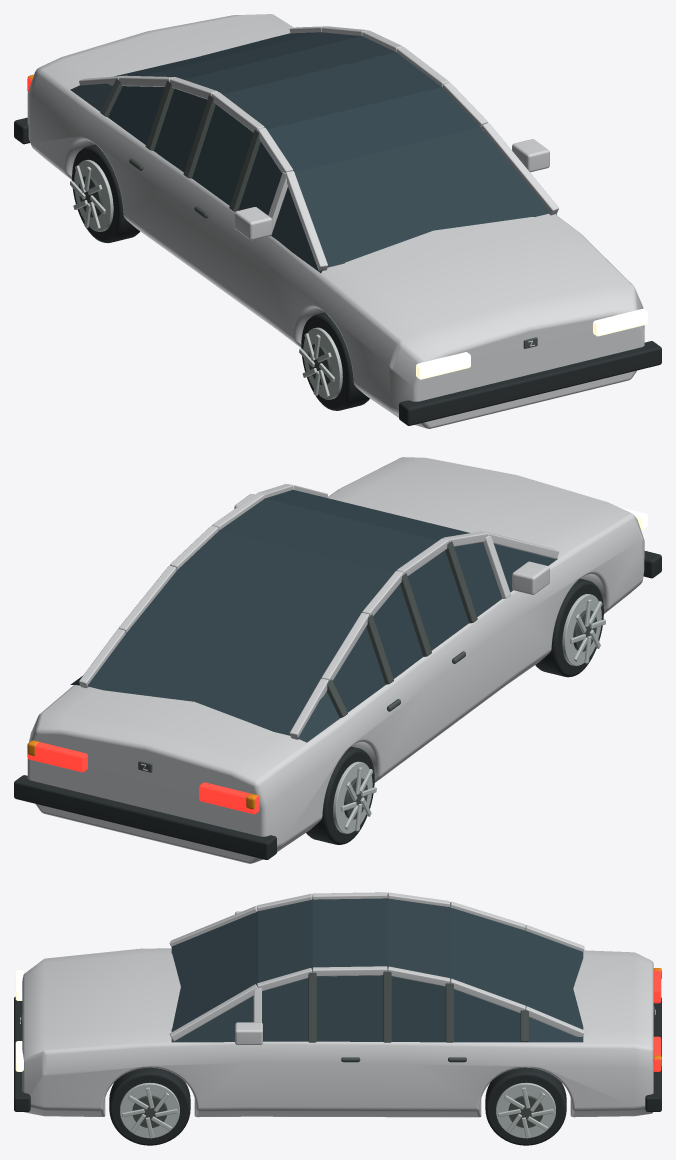
File: electric_sedan.glb
The picture shows the model from 3 angles, top to bottom: view 1: azimuth 30°, elevation 25°; view 2: azimuth 150°, elevation 25°; view 3: azimuth 270°, elevation 25°; orthographic projection. The views are drawn at different scales.
Parts seen in each view (by area): view 1: Painted bodyshell, Cabin, Bumper, Däck, Däck.002, Alloy wheel, Alloy wheel.002, Roof rail, Roof rail.001, Mirror, Headlamp, Headlamp.001 (+5 smaller); view 2: Painted bodyshell, Cabin, Bumper.001, Däck, Däck.002, Alloy wheel, Alloy wheel.002, Ruby tail lens.001, Ruby tail lens, Mirror, Roof rail.008, Window pillar.004 (+9 smaller); view 3: Painted bodyshell, Cabin, Däck.001, Däck.003, Alloy wheel.003, Alloy wheel.001, Roof rail.001, Bumper, Bumper.001, Roof rail.009, Roof rail.005, Window pillar.005 (+13 smaller).
Part boxes in pixels (bbox=[...]): Painted bodyshell: bbox=[27, 14, 644, 428]; Cabin: bbox=[70, 32, 556, 272]; Bumper: bbox=[399, 341, 661, 425]; Däck: bbox=[301, 312, 369, 410]; Däck.002: bbox=[72, 144, 139, 243]; Alloy wheel: bbox=[303, 327, 342, 399]; Alloy wheel.002: bbox=[74, 159, 113, 231]; Roof rail: bbox=[285, 171, 327, 271]; Roof rail.001: bbox=[481, 122, 558, 215]; Mirror: bbox=[234, 207, 272, 240]; Headlamp: bbox=[416, 352, 470, 379]; Headlamp.001: bbox=[593, 309, 647, 336]; Painted bodyshell: bbox=[27, 457, 644, 863]; Cabin: bbox=[70, 489, 557, 742]; Bumper.001: bbox=[14, 775, 276, 859]; Däck: bbox=[535, 578, 603, 677]; Däck.002: bbox=[306, 746, 374, 844]; Alloy wheel: bbox=[562, 594, 601, 665]; Alloy wheel.002: bbox=[333, 761, 372, 833]; Ruby tail lens.001: bbox=[27, 742, 87, 772]; Ruby tail lens: bbox=[199, 782, 259, 814]; Mirror: bbox=[512, 561, 549, 594]; Roof rail.008: bbox=[321, 612, 369, 680]; Window pillar.004: bbox=[400, 573, 431, 656]; Painted bodyshell: bbox=[22, 948, 653, 1117]; Cabin: bbox=[171, 898, 583, 1042]; Däck.001: bbox=[109, 1067, 190, 1145]; Däck.003: bbox=[485, 1067, 566, 1145]; Alloy wheel.003: bbox=[496, 1082, 555, 1138]; Alloy wheel.001: bbox=[120, 1082, 179, 1138]; Roof rail.001: bbox=[169, 984, 257, 1041]; Bumper: bbox=[14, 996, 30, 1111]; Bumper.001: bbox=[645, 997, 661, 1111]; Roof rail.009: bbox=[450, 978, 525, 1013]; Roof rail.005: bbox=[312, 966, 387, 976]; Window pillar.005: bbox=[383, 971, 391, 1042].
Bounding box in the file's own units: 2.24 × 1.43 × 5.1.
